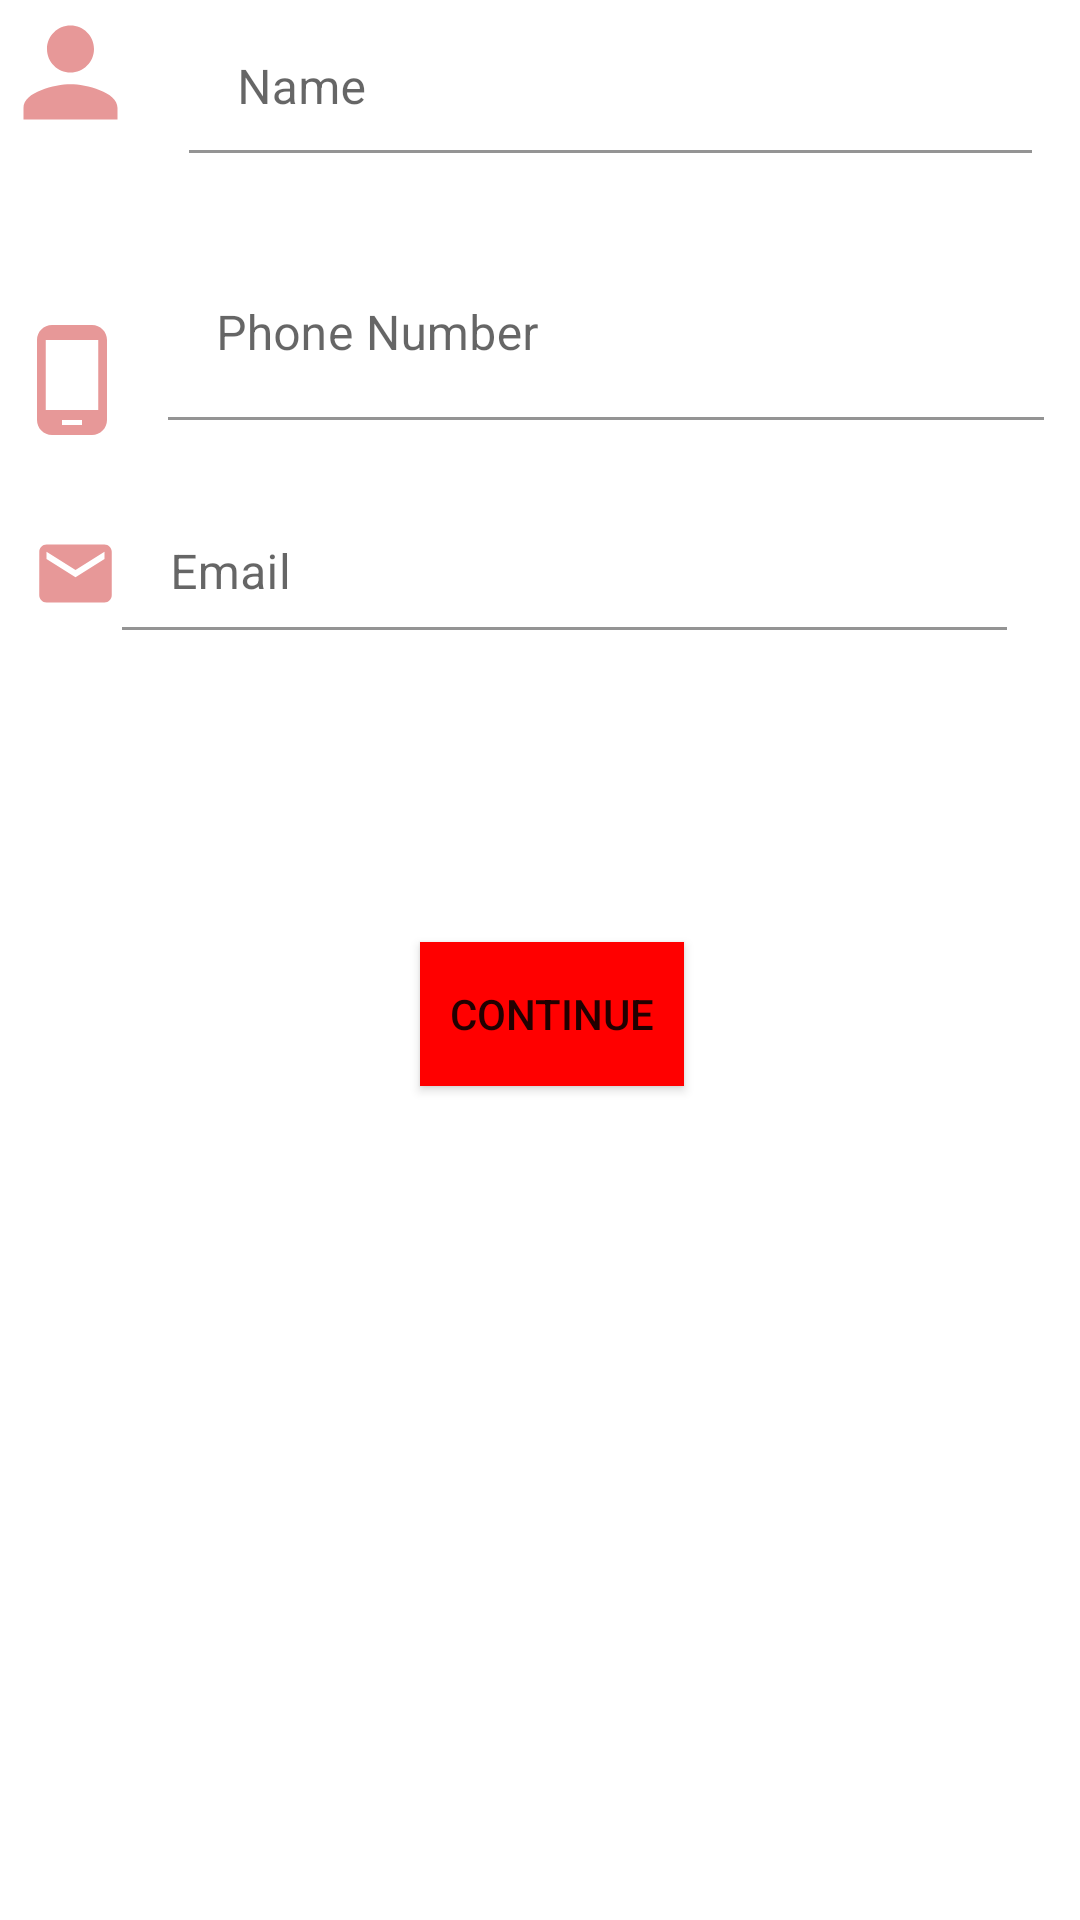

Named icons in this screenshot (1080 x 1920) and their centers, point (x, y):
person: point (70, 72)
phone android: point (72, 380)
